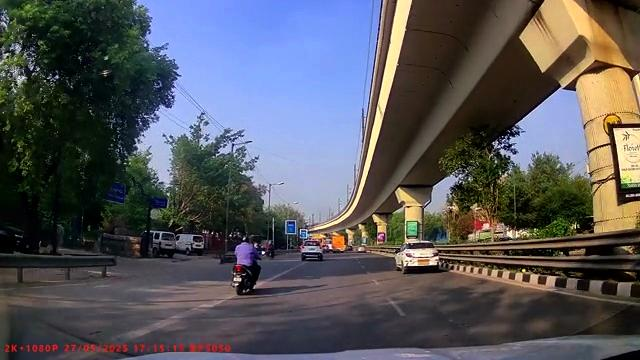motorcycle_with_helmet: (230, 235, 261, 295)
